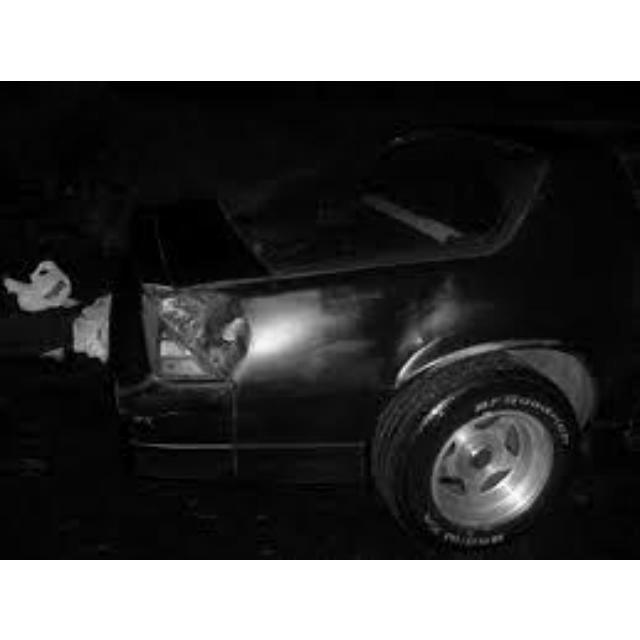quaterpanel-dent: (220, 261, 514, 458)
